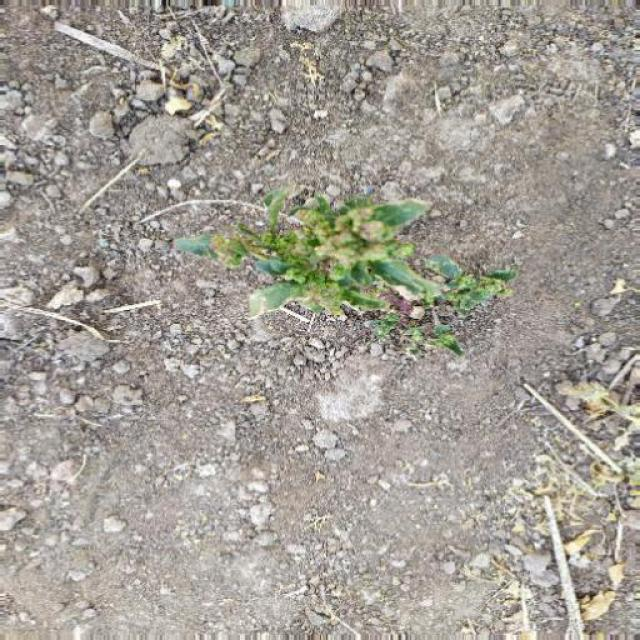weed: (182, 158, 508, 378)
